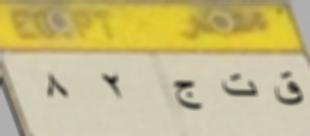2: (98, 67, 129, 107)
8: (33, 71, 72, 107)
jeem: (170, 75, 204, 120)
qaaf: (270, 67, 309, 114)
taa: (213, 69, 262, 103)
